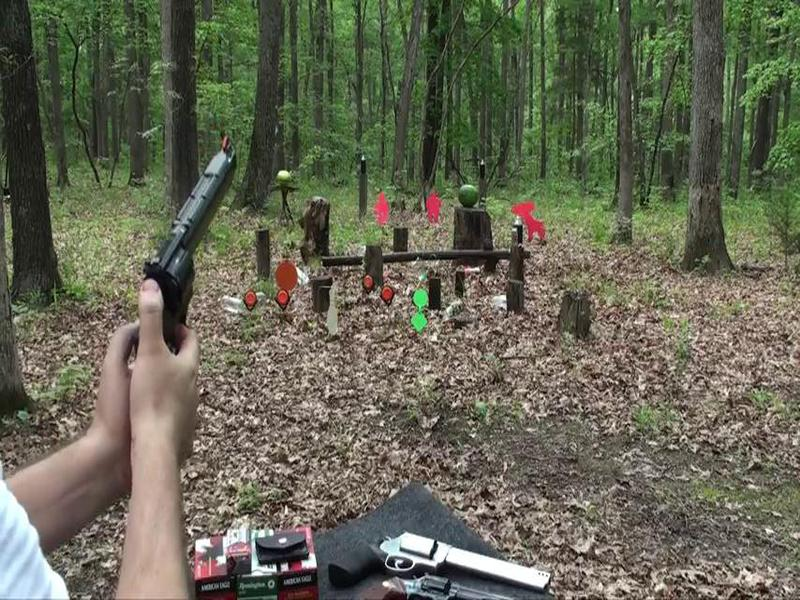Revolver: (128, 131, 260, 346)
